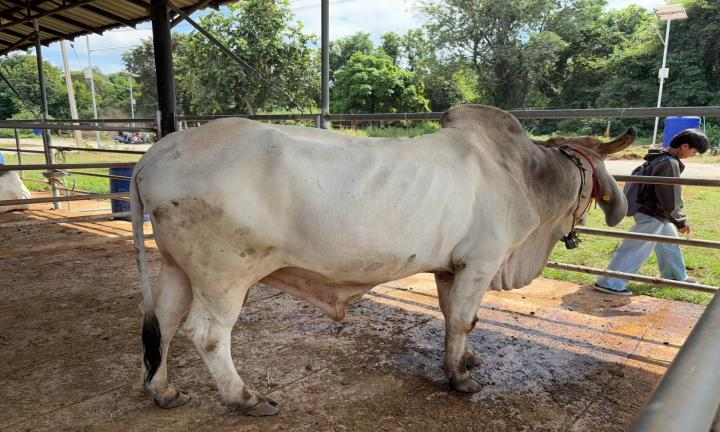Brahman: (131, 105, 636, 414)
